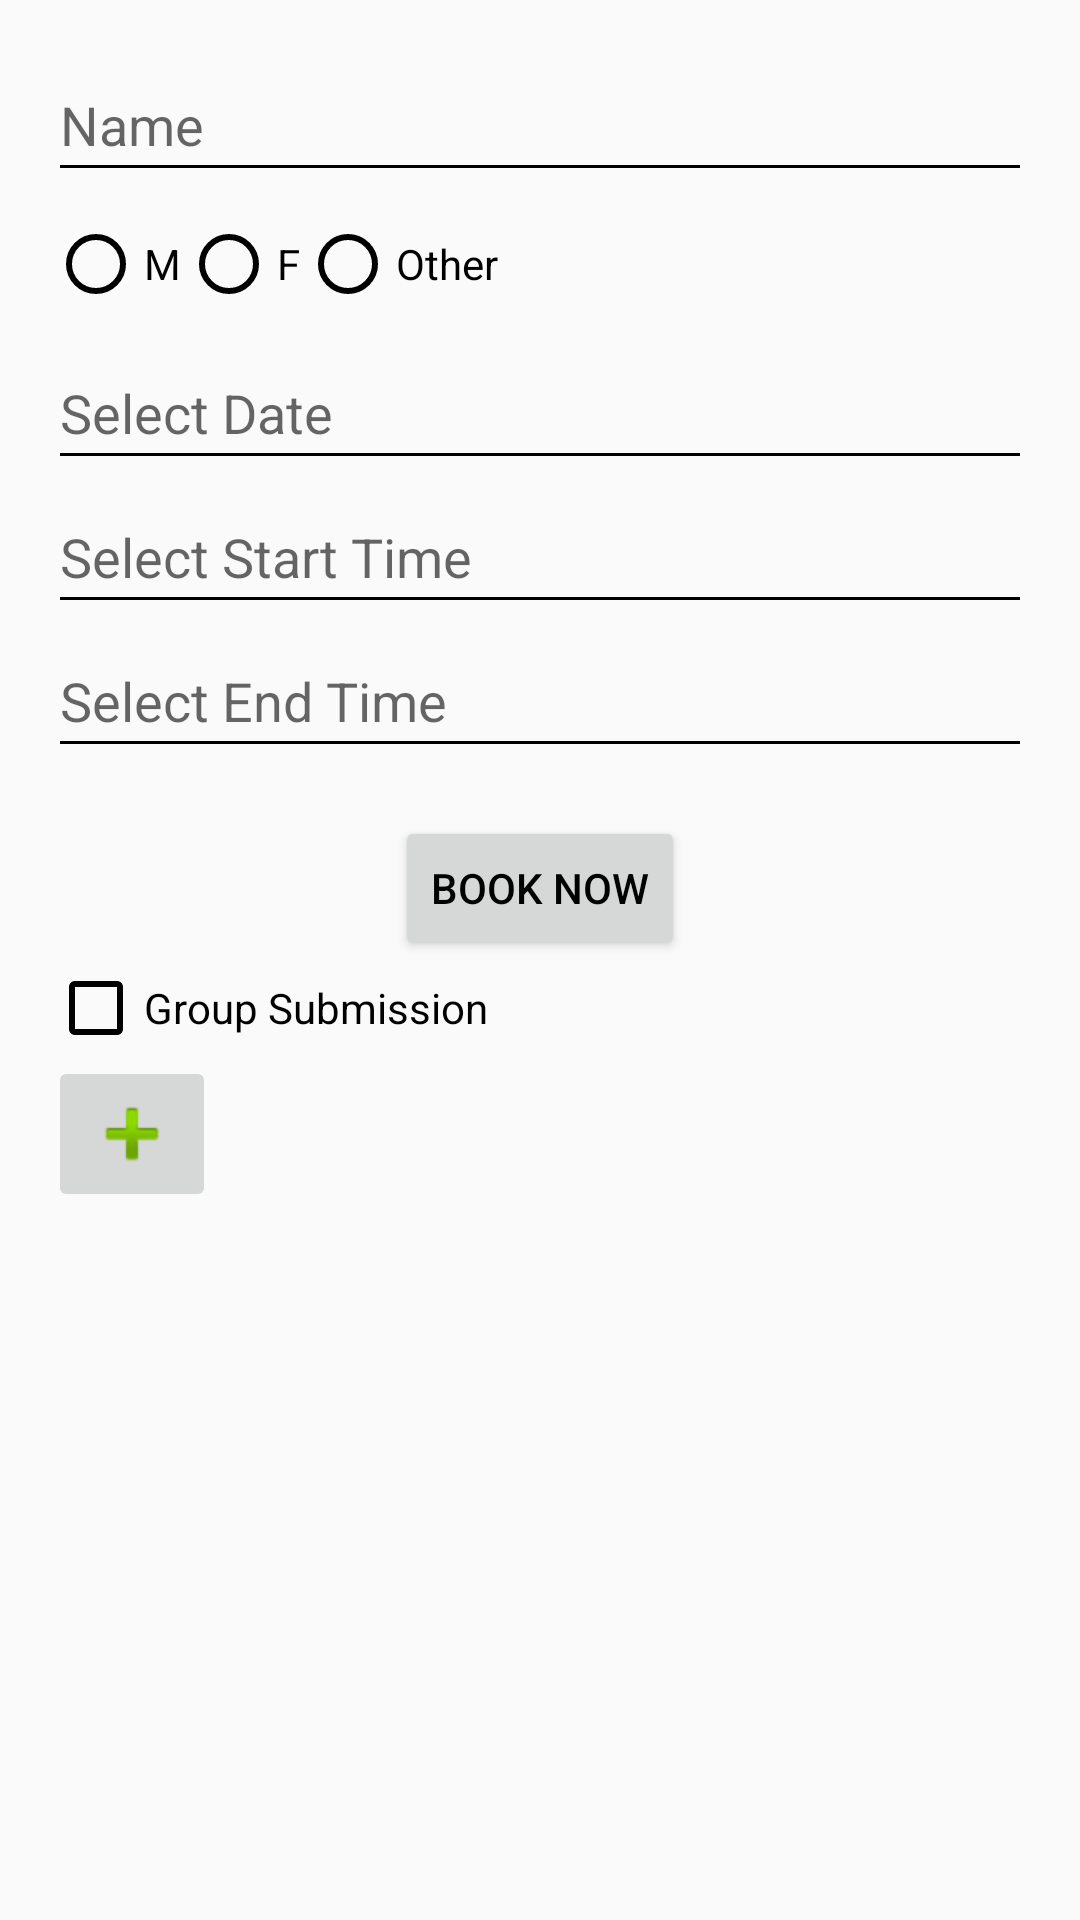

Screen size 1080x1920. Icon name, then its center in pixels as point (x, y):
add: point (132, 1134)
